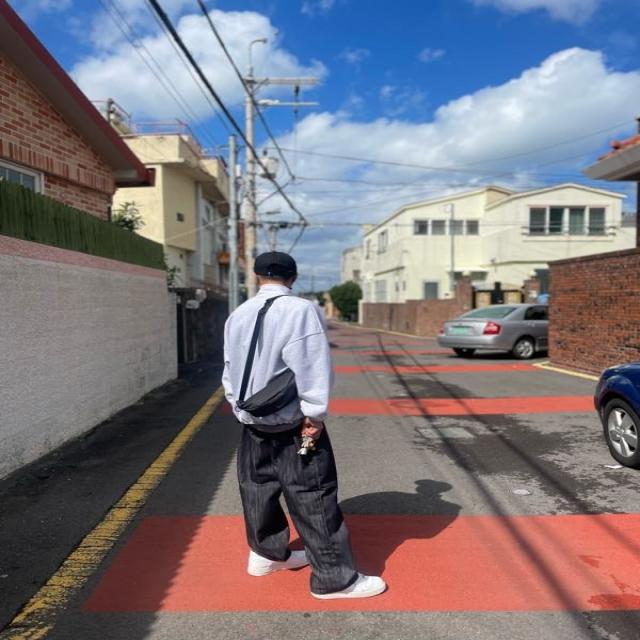denimpants: (238, 418, 362, 593)
jacket: (221, 277, 332, 427)
